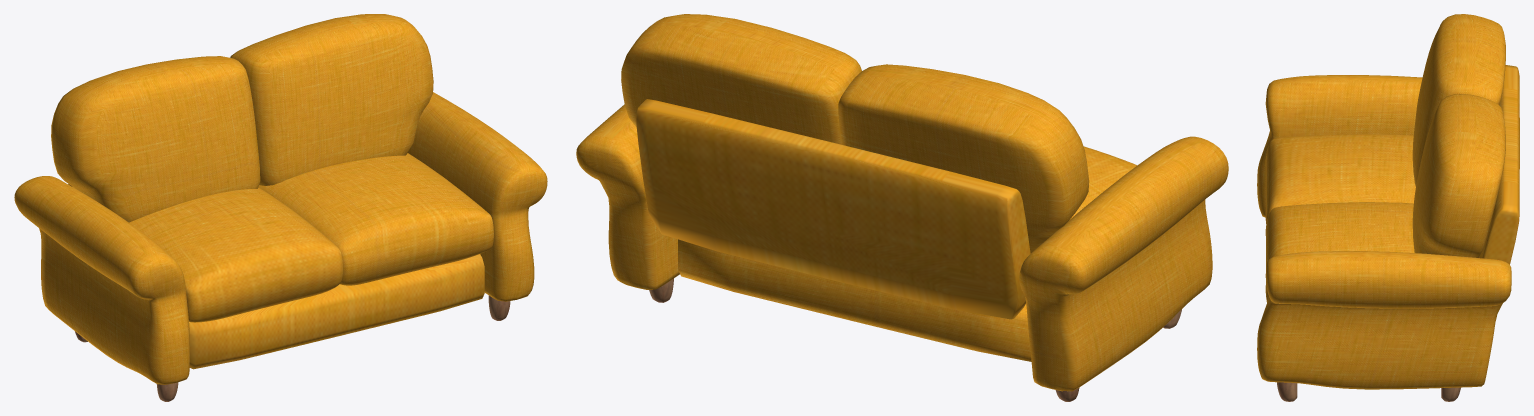
Rendered from divano.fbx.
3 renders of one model, left to right at view 1: azimuth 30°, elevation 25°; view 2: azimuth 150°, elevation 25°; view 3: azimuth 270°, elevation 25°, orthographic. The views are drawn at different scales.
Visible parts, largest first — view 1: divano; view 2: divano; view 3: divano.
Part boxes in pixels (x1,y1,x2,y2): divano: (14, 14, 547, 401); divano: (576, 14, 1228, 401); divano: (1257, 14, 1519, 401).
Bounding box in the file's own units: 143 × 81.13 × 80.06.
